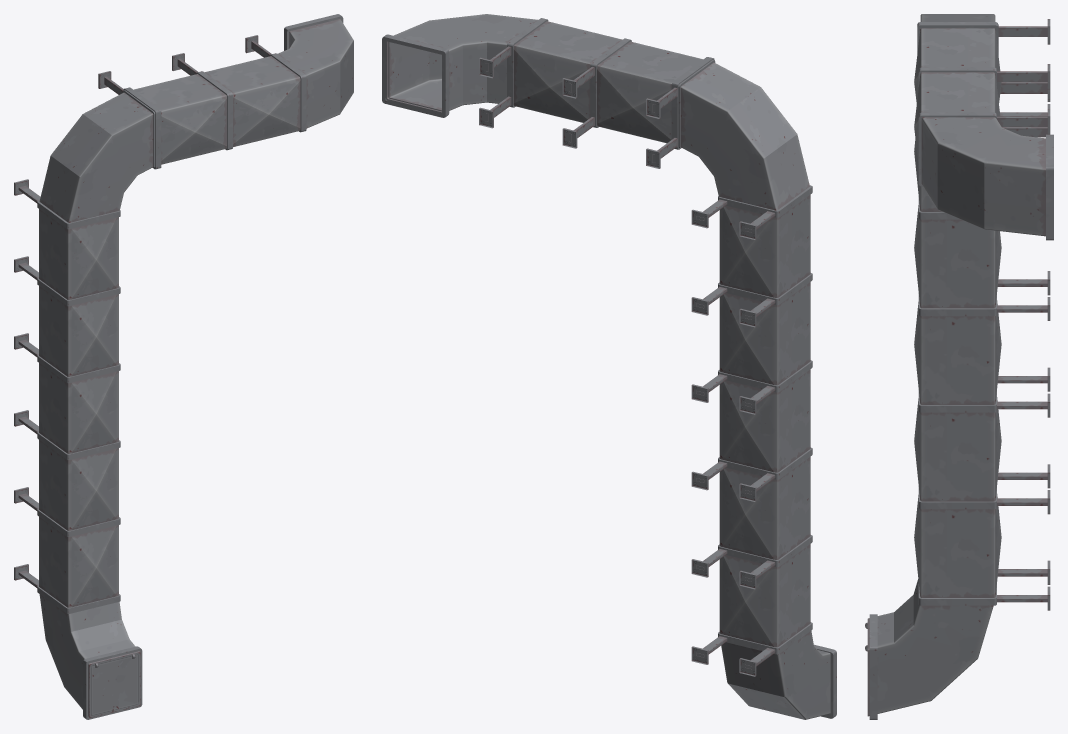
Rendered from Chute3.fbx.
The picture shows the model from 3 angles, left to right: view 1: azimuth 30°, elevation 25°; view 2: azimuth 150°, elevation 25°; view 3: azimuth 270°, elevation 25°; orthographic projection. The views are drawn at different scales.
Parts seen in each view (by area): view 1: polySurface1362; view 2: polySurface1362; view 3: polySurface1362.
Boxes of the visible parts, x1,y1,x2,y2 form: polySurface1362: [14, 14, 353, 719]; polySurface1362: [382, 14, 836, 719]; polySurface1362: [865, 14, 1053, 719].
Size of the model in its own units: 223 by 373 by 88.66.
